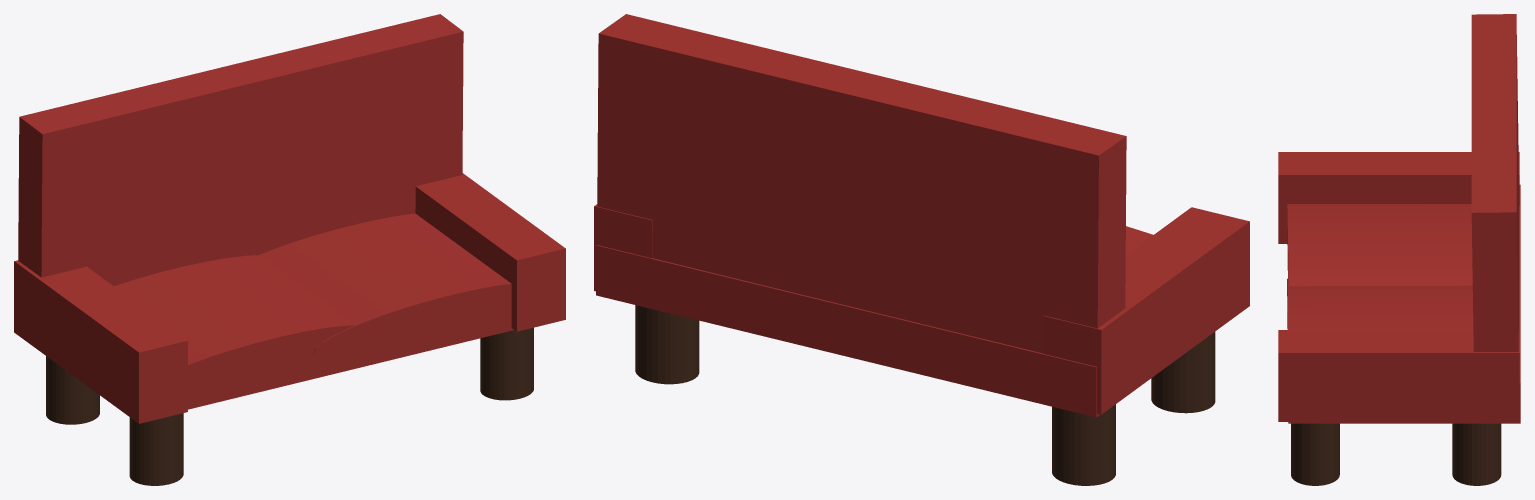
File: Couch.fbx
3 views of the same model, side by side, from view 1: azimuth 30°, elevation 25°; view 2: azimuth 150°, elevation 25°; view 3: azimuth 270°, elevation 25° (orthographic). The views are drawn at different scales.
Visible parts, largest first — view 1: Cube.001, Cylinder.005, Cylinder, Cube.002, Cube.003, Cylinder.003, Cylinder.004, Cube, Cylinder.002; view 2: Cube.001, Cube, Cube.002, Cylinder.002, Cylinder.001, Cylinder.003, Cube.003; view 3: Cube.003, Cube.001, Cylinder, Cube.002, Cylinder.005, Cylinder.001, Cylinder.004, Cube.
Part boxes in pixels (x1,y1,x2,y2): Cube.001: [18, 14, 463, 285]; Cylinder.005: [259, 213, 511, 359]; Cylinder: [114, 255, 355, 400]; Cube.002: [14, 260, 187, 423]; Cube.003: [415, 173, 565, 331]; Cylinder.003: [129, 413, 183, 485]; Cylinder.004: [480, 327, 533, 400]; Cube: [188, 316, 513, 409]; Cylinder.002: [46, 356, 99, 424]; Cube.001: [597, 14, 1126, 353]; Cube: [596, 245, 1099, 417]; Cube.002: [1043, 207, 1249, 414]; Cylinder.002: [1052, 404, 1115, 485]; Cylinder.001: [635, 305, 699, 384]; Cylinder.003: [1151, 332, 1215, 413]; Cube.003: [594, 204, 652, 291]; Cube.003: [1278, 330, 1519, 421]; Cube.001: [1471, 14, 1518, 423]; Cylinder: [1287, 204, 1472, 286]; Cube.002: [1278, 152, 1519, 243]; Cylinder.005: [1287, 278, 1473, 329]; Cylinder.001: [1452, 423, 1501, 485]; Cylinder.004: [1291, 423, 1339, 485]; Cube: [1288, 184, 1520, 423].
Bounding box in the file's own units: 852 × 553 × 434.
